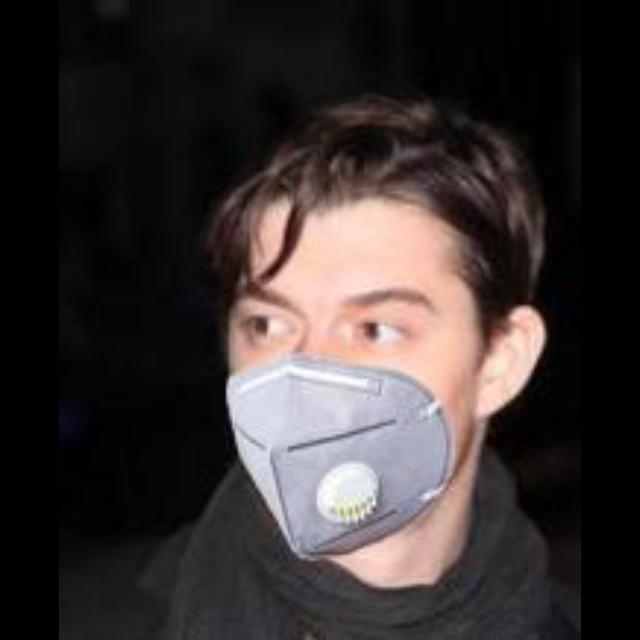suspicion: (193, 76, 557, 578)
